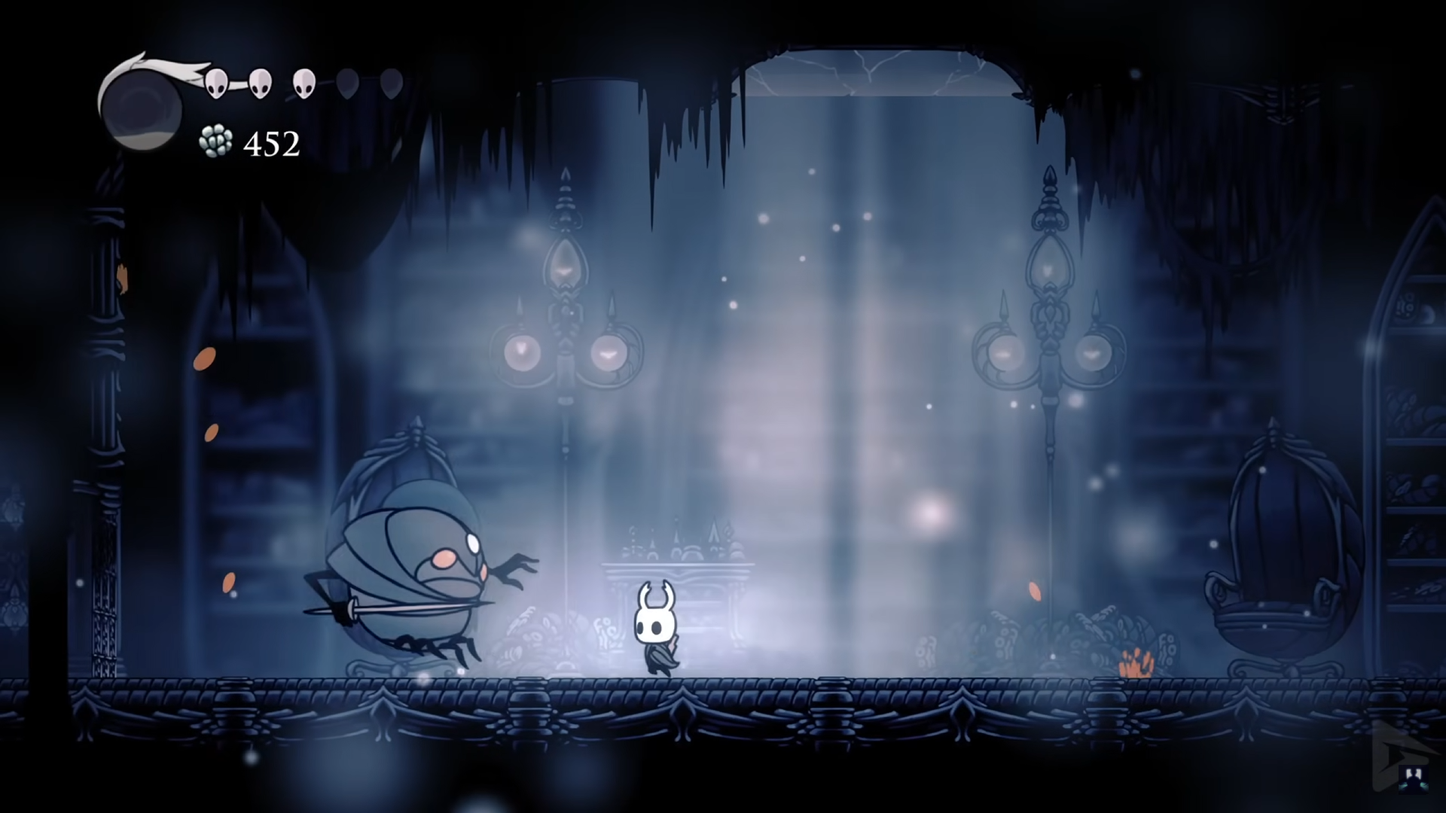HK: (627, 580, 688, 679)
